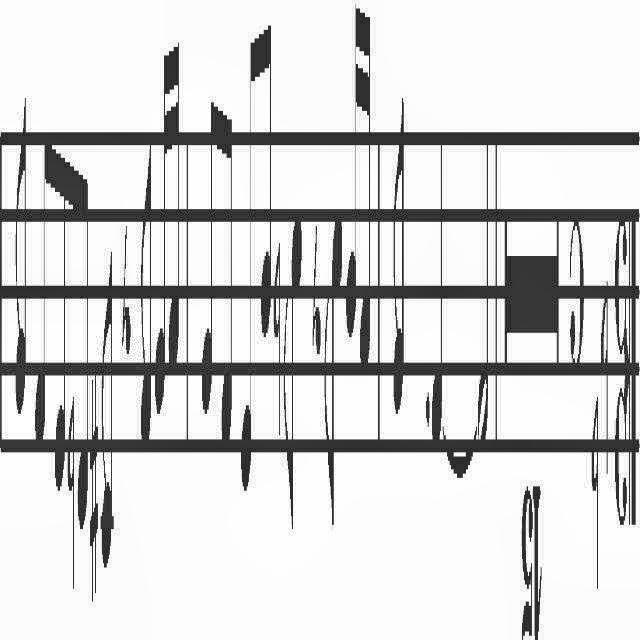Bemol: (591, 387, 601, 607), (600, 280, 610, 494), (272, 238, 282, 448), (68, 378, 76, 606)
Diez: (90, 362, 98, 616)
Eighth-note: (240, 18, 258, 518), (324, 195, 344, 549), (282, 198, 302, 550), (200, 76, 218, 436), (34, 112, 50, 476), (220, 88, 234, 470), (12, 92, 28, 424), (101, 232, 115, 596), (139, 128, 153, 478), (54, 117, 66, 516), (78, 159, 90, 537), (260, 6, 272, 358), (392, 88, 404, 432)
Eighth-rest: (310, 210, 322, 374), (120, 214, 132, 368)
Half-note: (478, 106, 490, 466)
Quarter-note: (432, 94, 444, 463)
Sixteenth-note: (154, 15, 168, 421), (344, 0, 360, 354), (168, 16, 182, 384), (361, 1, 372, 400)
